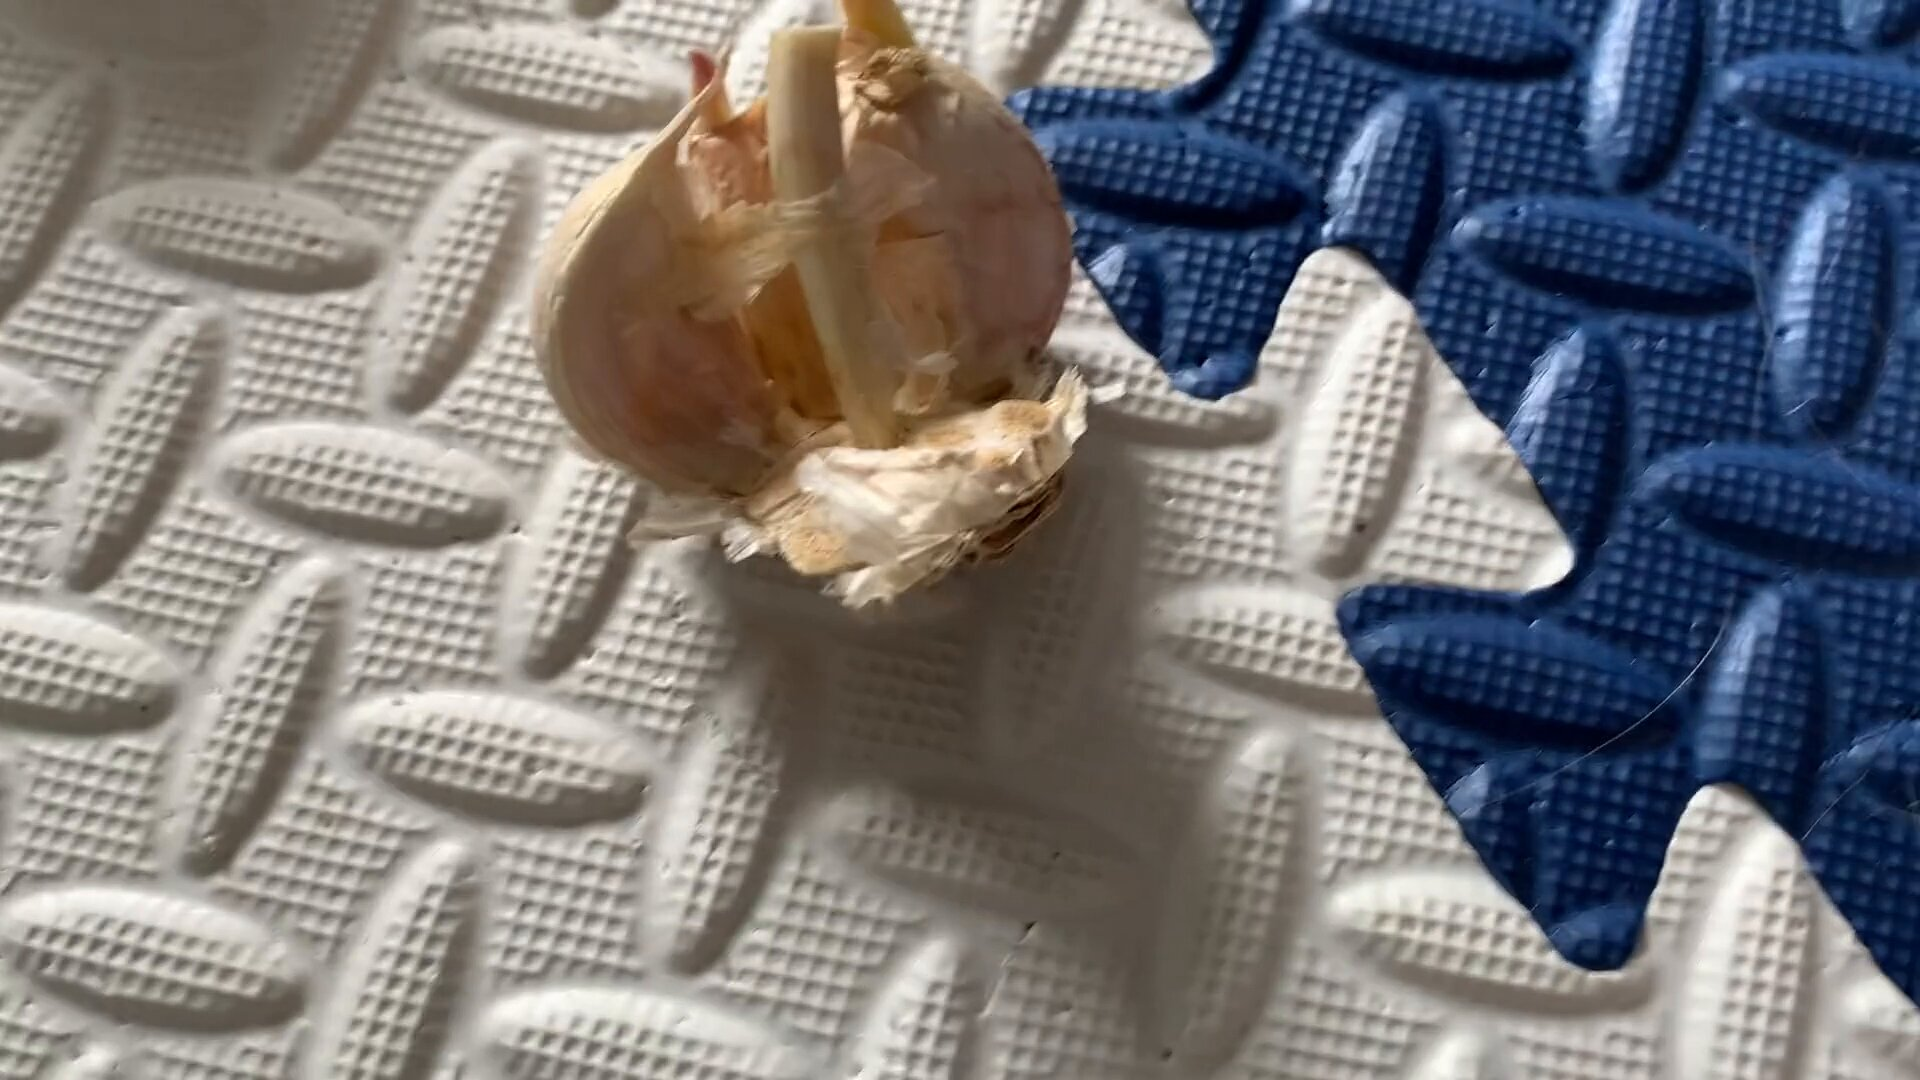不可回收蔬菜: (518, 1, 1102, 637)
